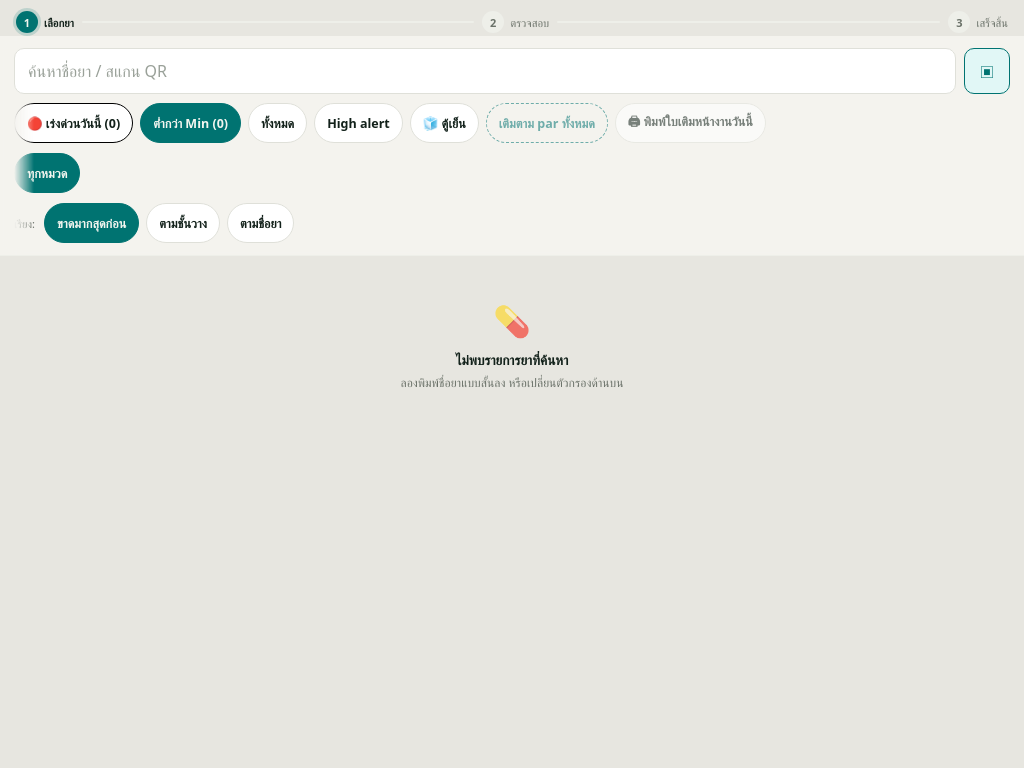
TransferScreen — bump() silent-no-op / pre-pack-override regression › asks for confirmation instead of silently no-opping when floor is already at/above Max
This screenshot has width=1024, height=768.
Click the button "ทั้งหมด".
click(278, 123)  # box [248,103,307,143]
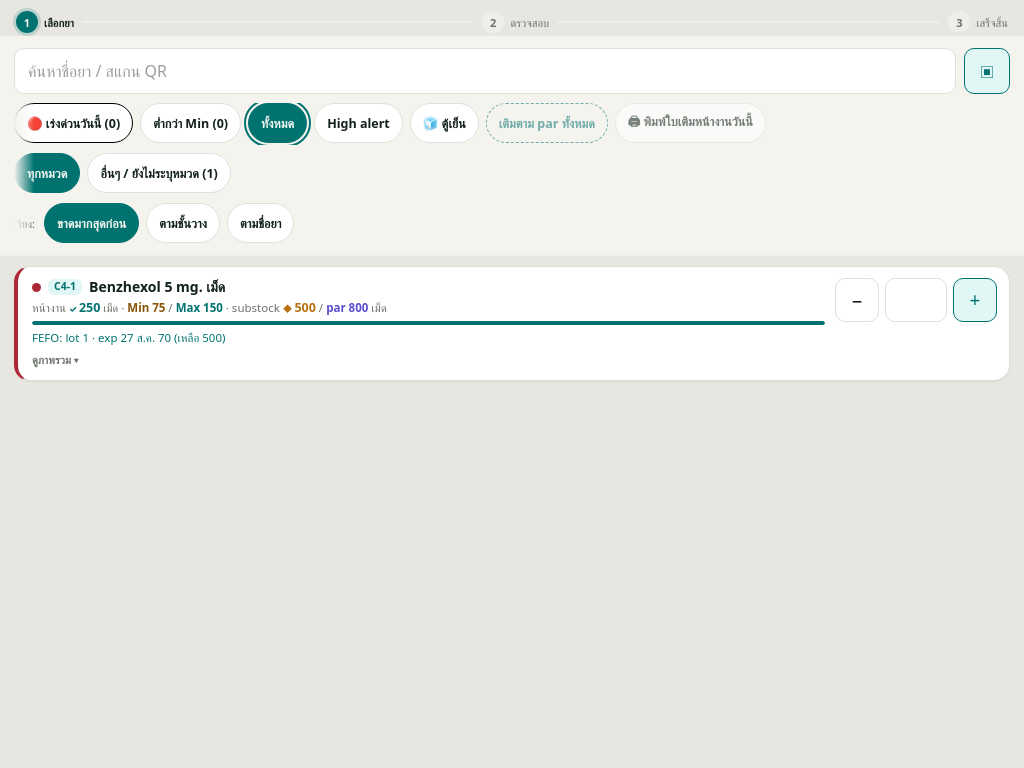
Click the button "+".
click(975, 300)  # box [953,278,997,322]
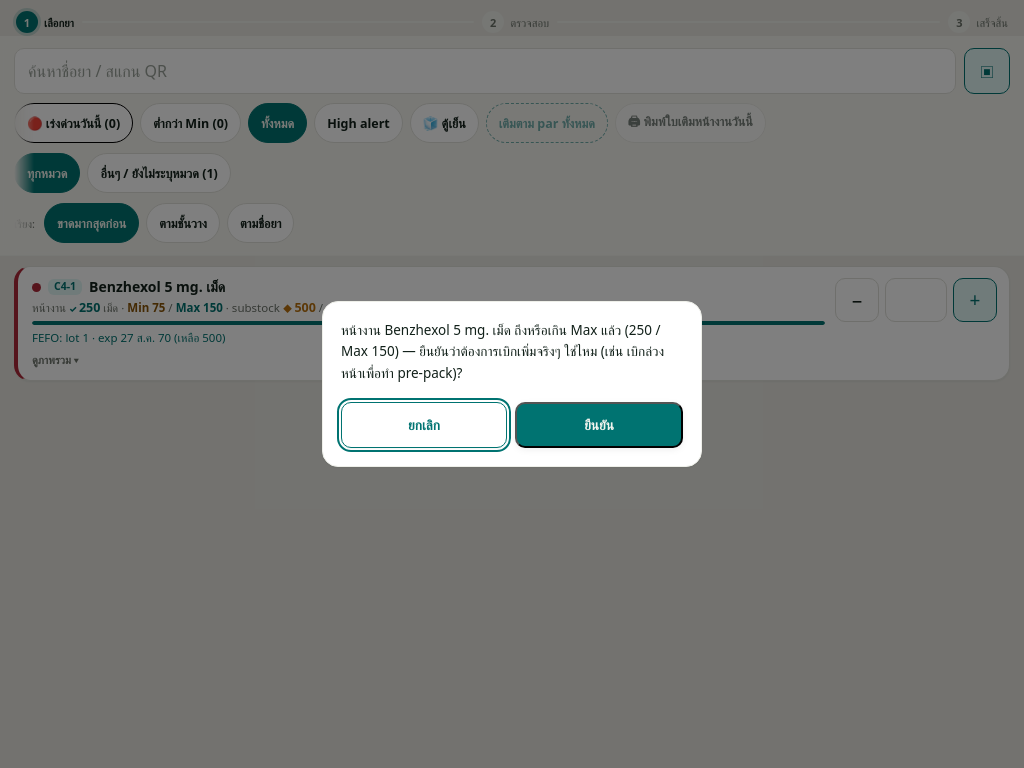
Check: the text "ถึงหรือเกิน Max แล้ว" is shown, box [341,321,664,382]
